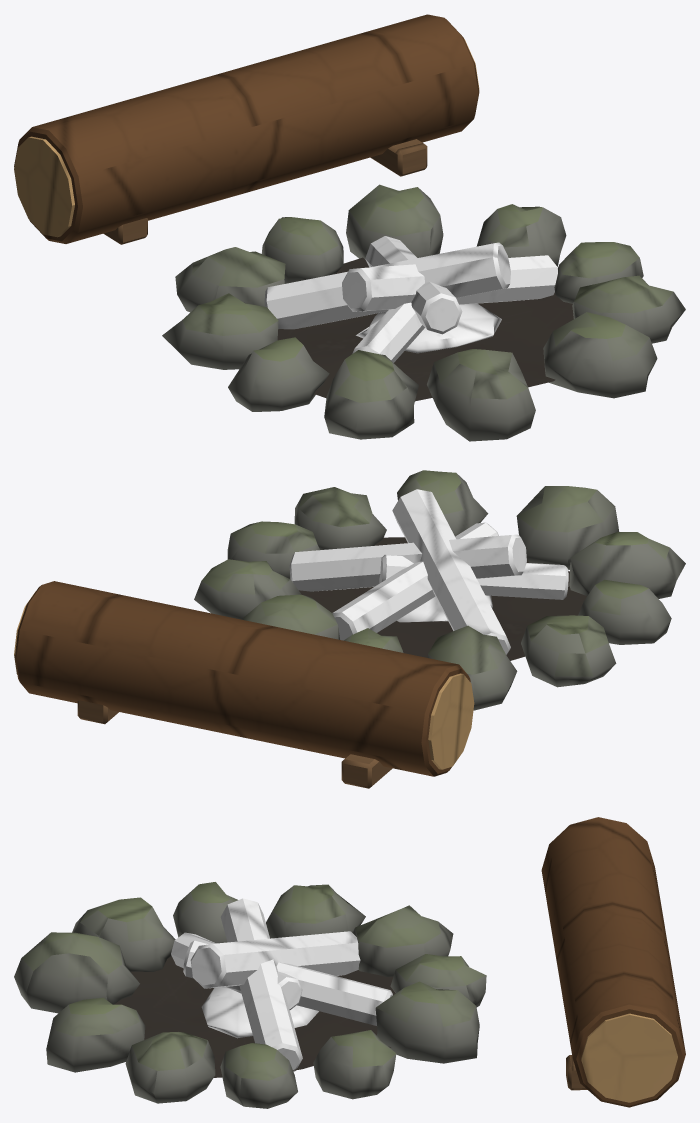
File: campfire_ring.glb
3 views of the same model, one above another, from view 1: azimuth 30°, elevation 25°; view 2: azimuth 150°, elevation 25°; view 3: azimuth 270°, elevation 25° (orthographic). The views are drawn at different scales.
Visible parts, largest first — view 1: campfire_ring; view 2: campfire_ring; view 3: campfire_ring.
Part boxes in pixels (x1,y1,x2,y2): campfire_ring: [14, 14, 685, 441]; campfire_ring: [14, 470, 685, 788]; campfire_ring: [14, 817, 685, 1108].
Size of the model in its own units: 1.44 by 0.3823 by 2.01.
Materials: 6 (6 with a texture image).
